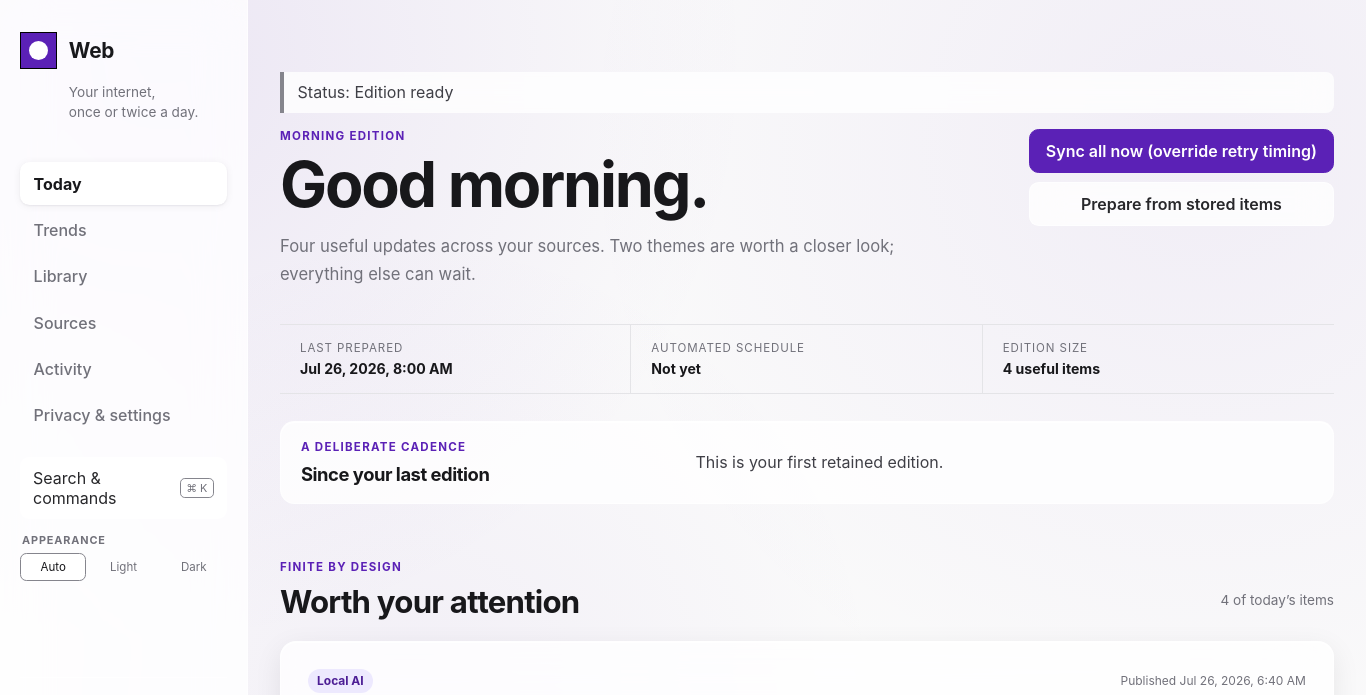
it: calm dashboard › uses the Command zoom hint on Apple platforms
The image size is (1366, 695).
Expected: the heading "Good morning." is shown, 280,146 -> 708,222
Click the button "Privacy & settings". click: click(124, 416)
box: 20,394 -> 227,437
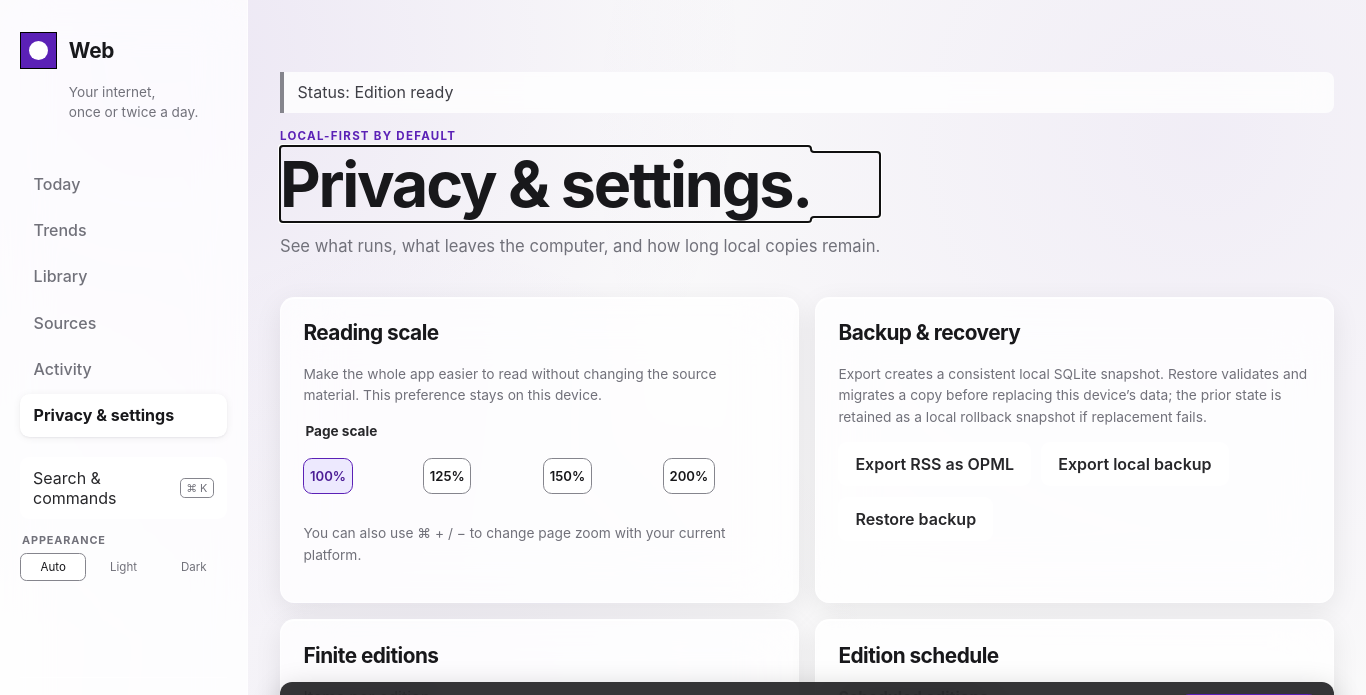
Now the text "You can also use ⌘ + / −" is shown, box 303,523 -> 776,566
